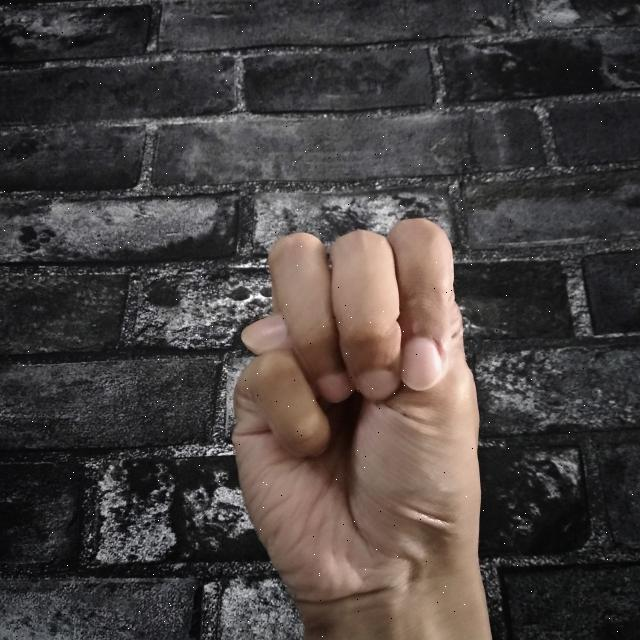M: (216, 212, 506, 640)
